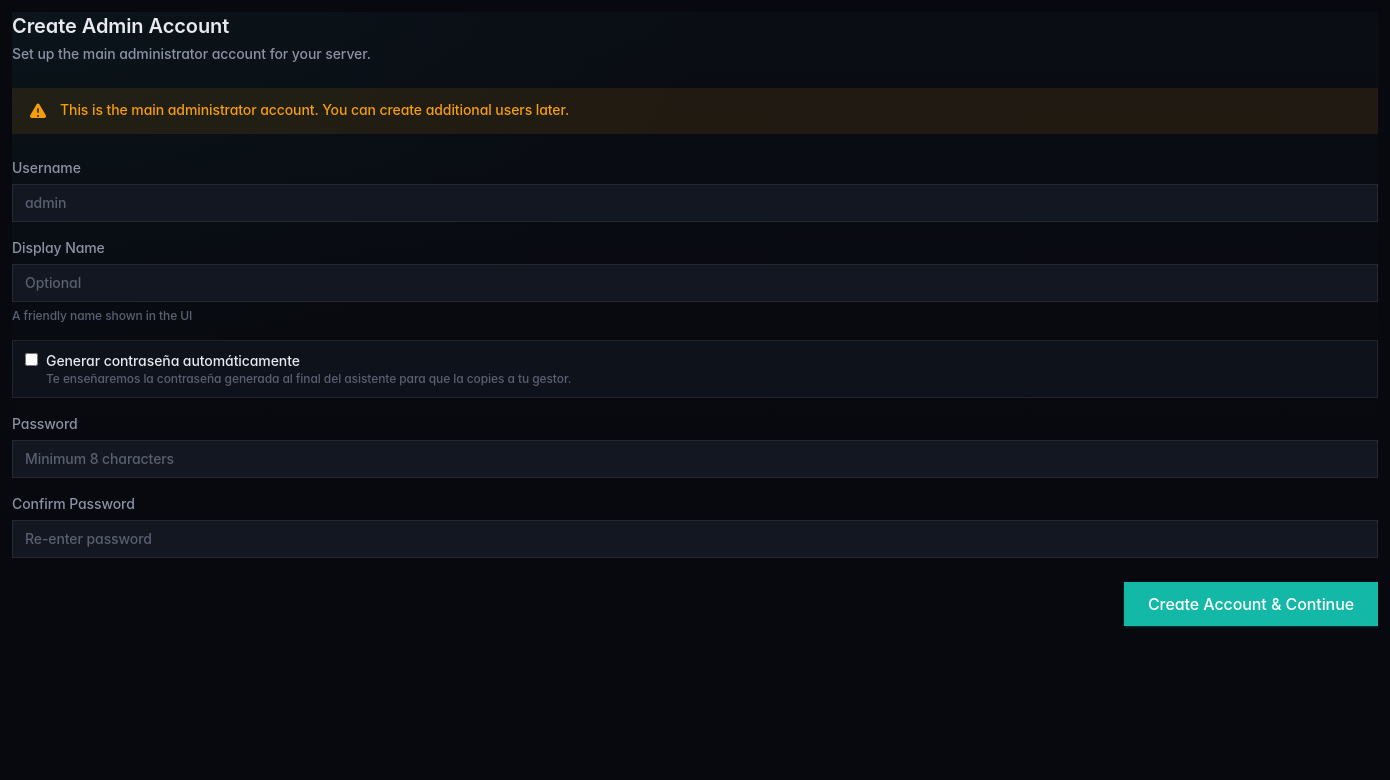
Test case: AccountStep › blocks submit and shows a password error when it is too short
The image size is (1390, 780).
Type "alice" into the field labelled "Username".
click(695, 203); type("alice")  # box [12,184,1378,222]
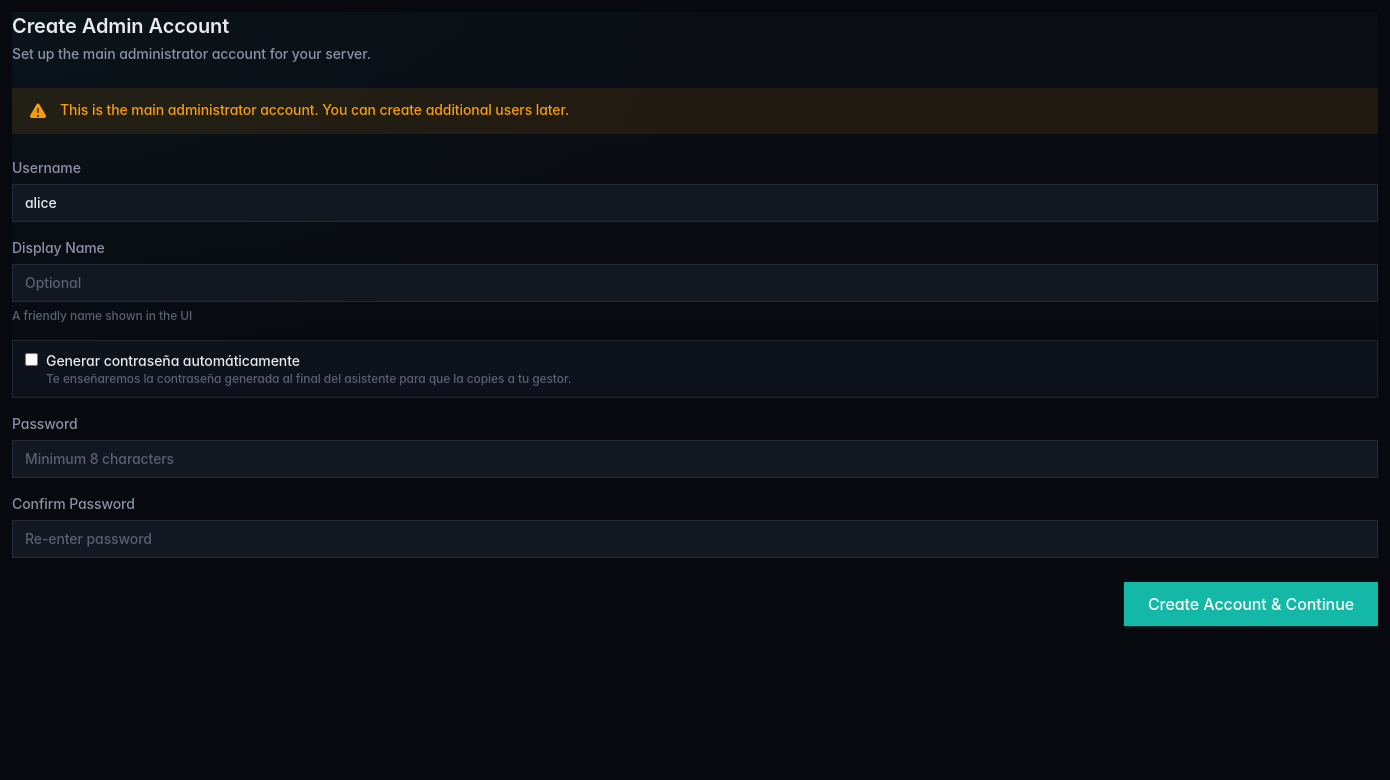
Type "short" into the password field labelled "Password".
click(695, 459); type("short")  # box [12,440,1378,478]
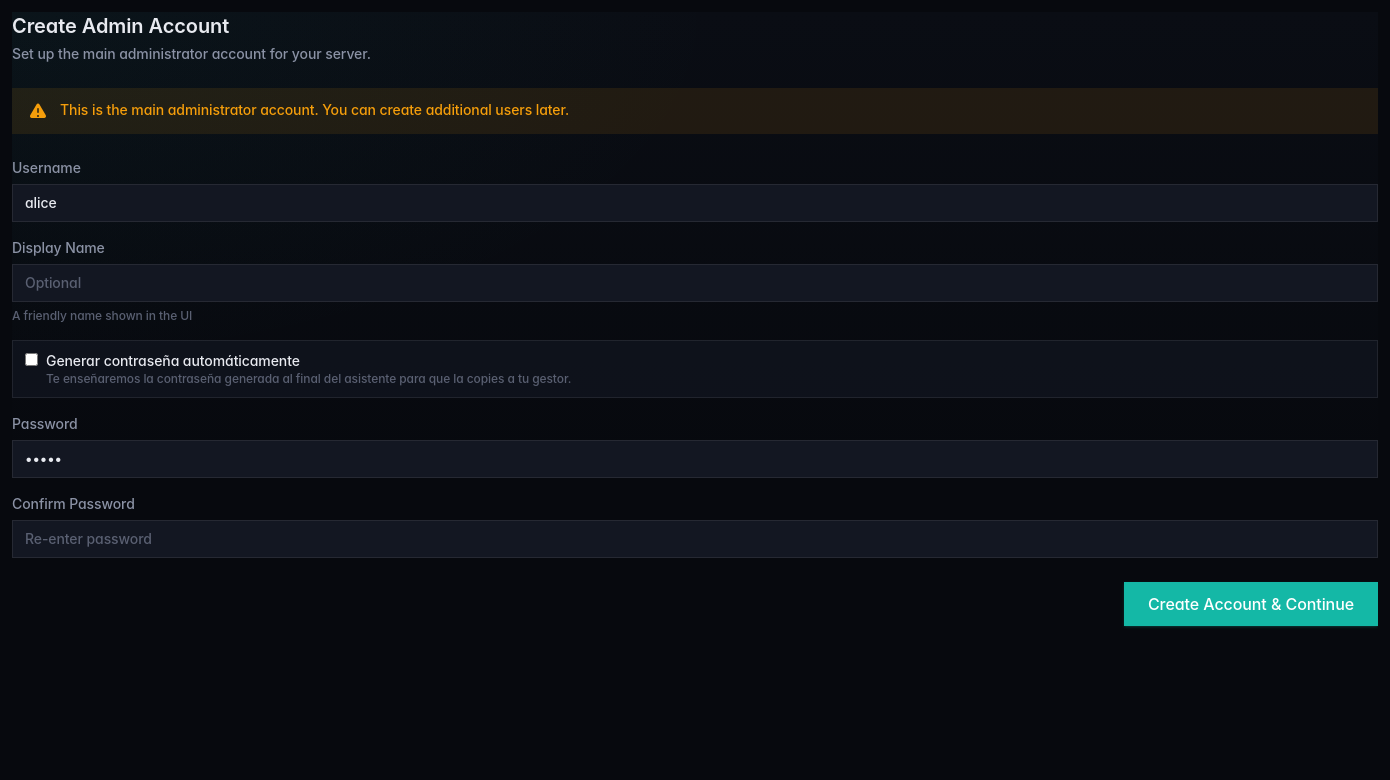
Type "short" into the password field labelled "Confirm Password".
click(695, 539); type("short")  # box [12,520,1378,558]
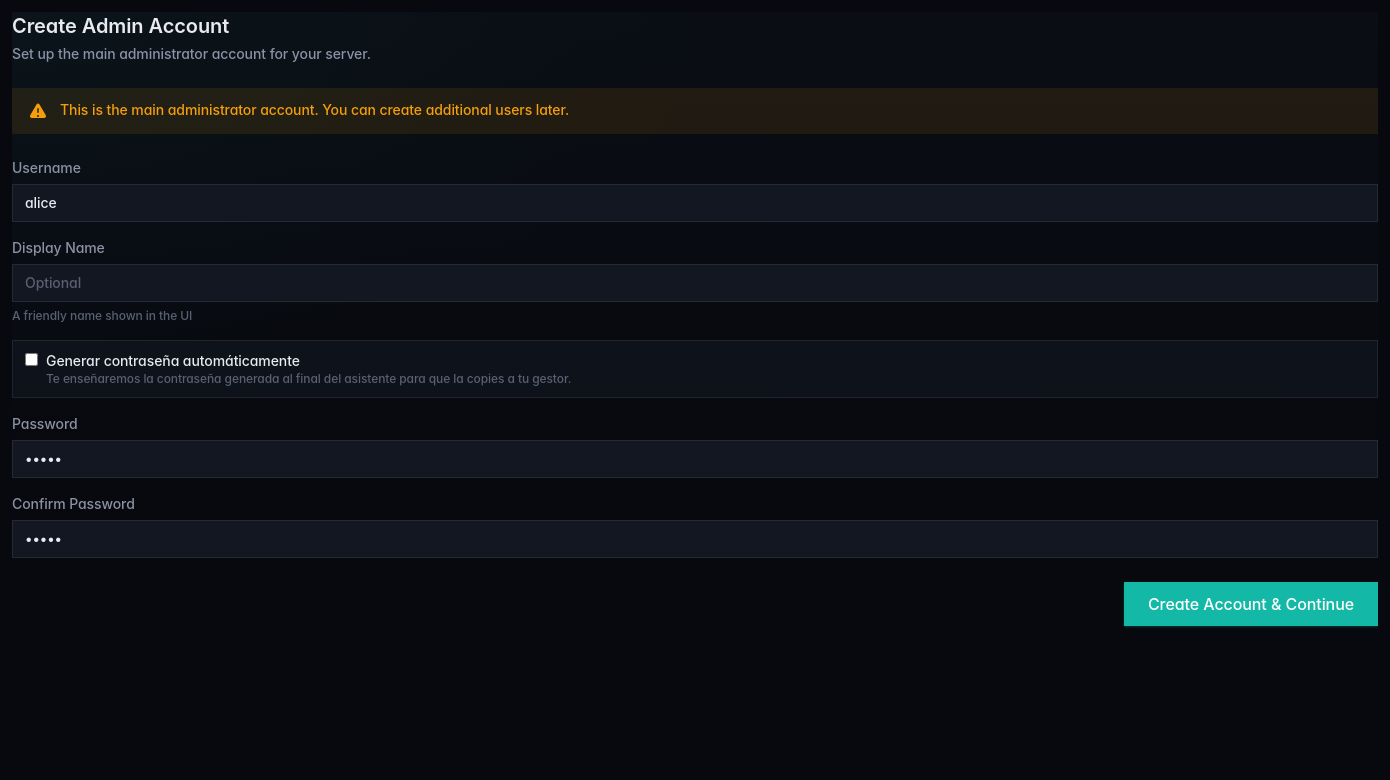
Click the button "Create Account & Continue".
click(1251, 604)  # box [1124,582,1378,626]
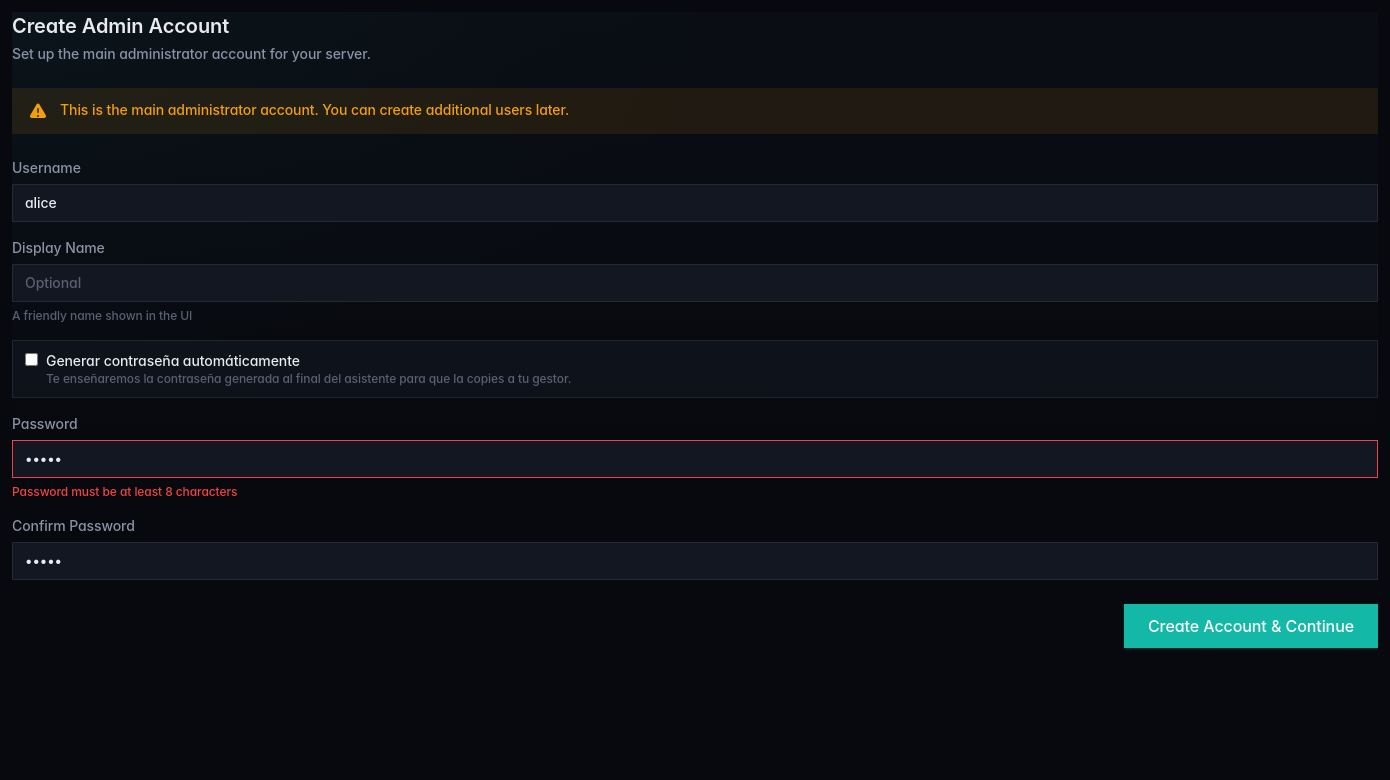
Now the text "Password must be at least 8 characters" is shown, box [12,484,237,499]
